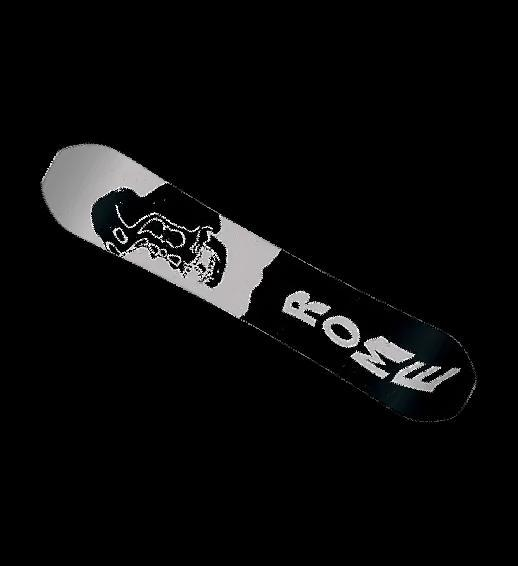Snowboard: (39, 141, 478, 423)
